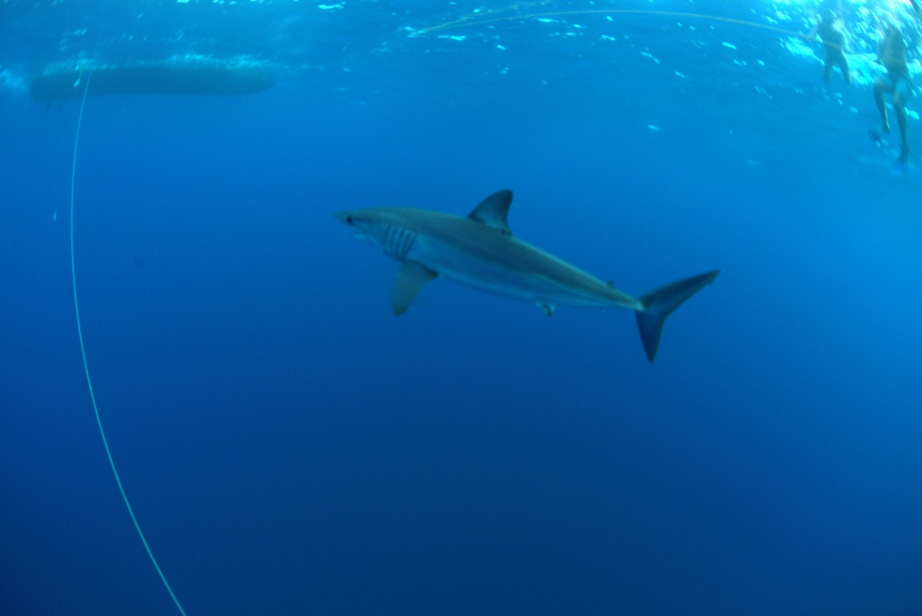Mako: (316, 183, 731, 376)
